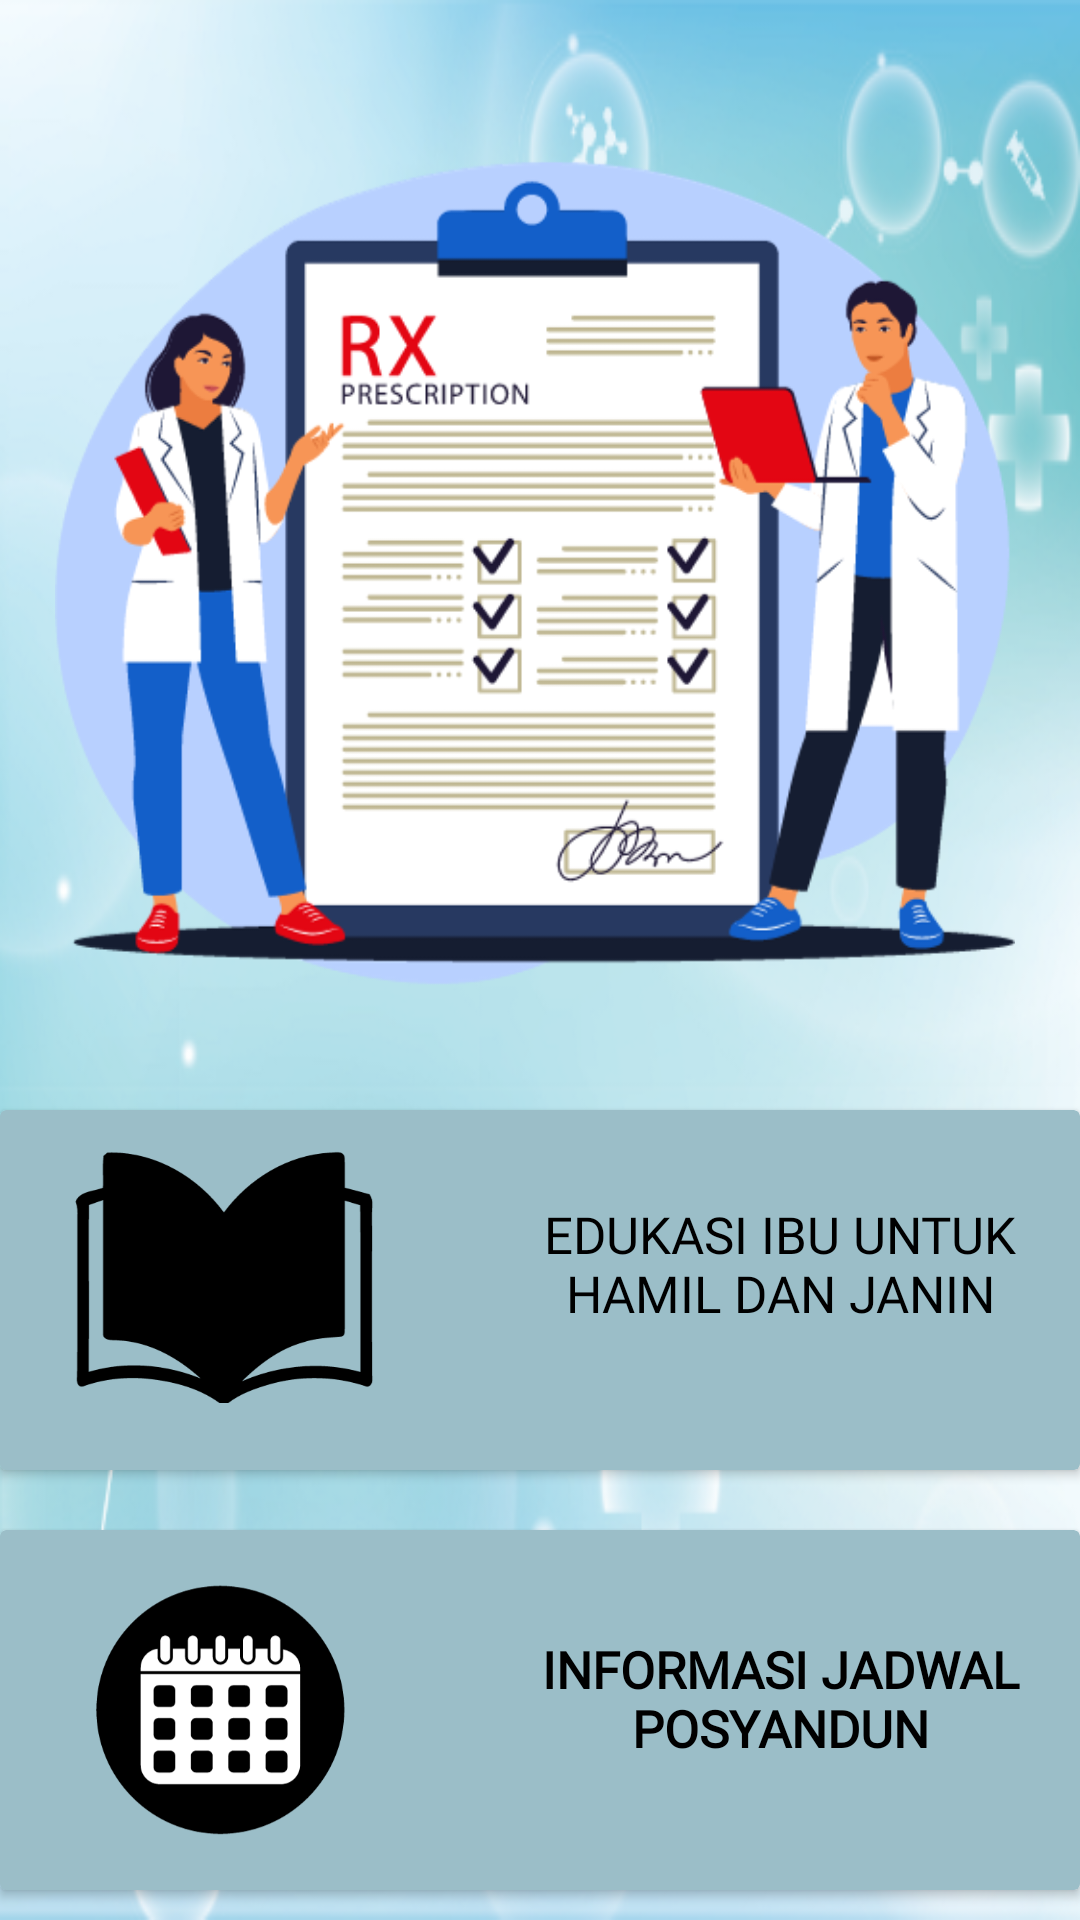

Icon click points for this 1080×1920 phone screenshot, format point (x, y):
hjadwal: point (220, 1710)
